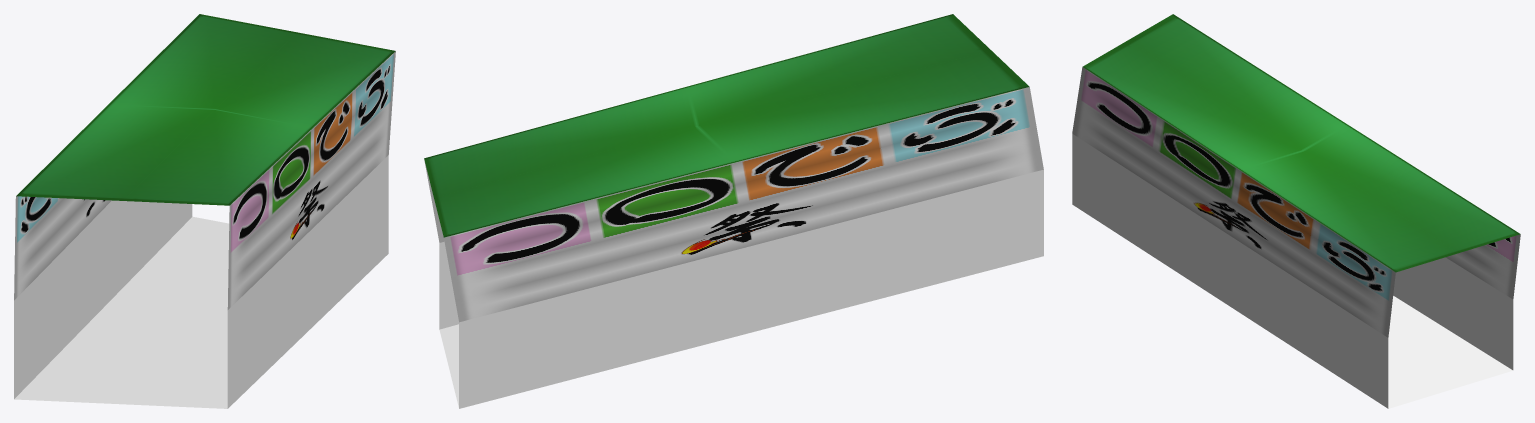
The model's file is CourseWinter_Wall_L_13_3.fbx.
The picture shows the model from 3 angles, left to right: view 1: azimuth 30°, elevation 25°; view 2: azimuth 150°, elevation 25°; view 3: azimuth 270°, elevation 25°; orthographic projection. The views are drawn at different scales.
Visible parts, largest first — view 1: polySurface536; view 2: polySurface536; view 3: polySurface536.
Part boxes in pixels (bbox=[...]): polySurface536: bbox=[14, 14, 395, 408]; polySurface536: bbox=[424, 14, 1043, 408]; polySurface536: bbox=[1072, 14, 1520, 408].
Size of the model in its own units: 5.77 by 2.99 by 5.74.
1 material, 1 textured.
